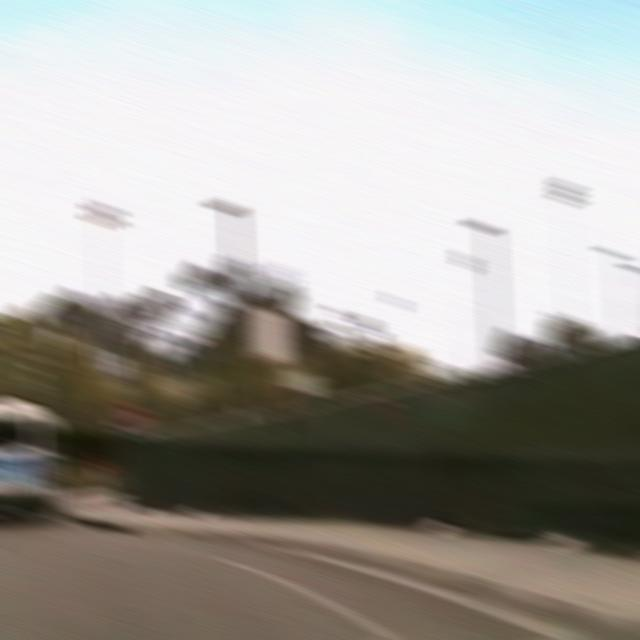stop: (116, 398, 149, 435)
